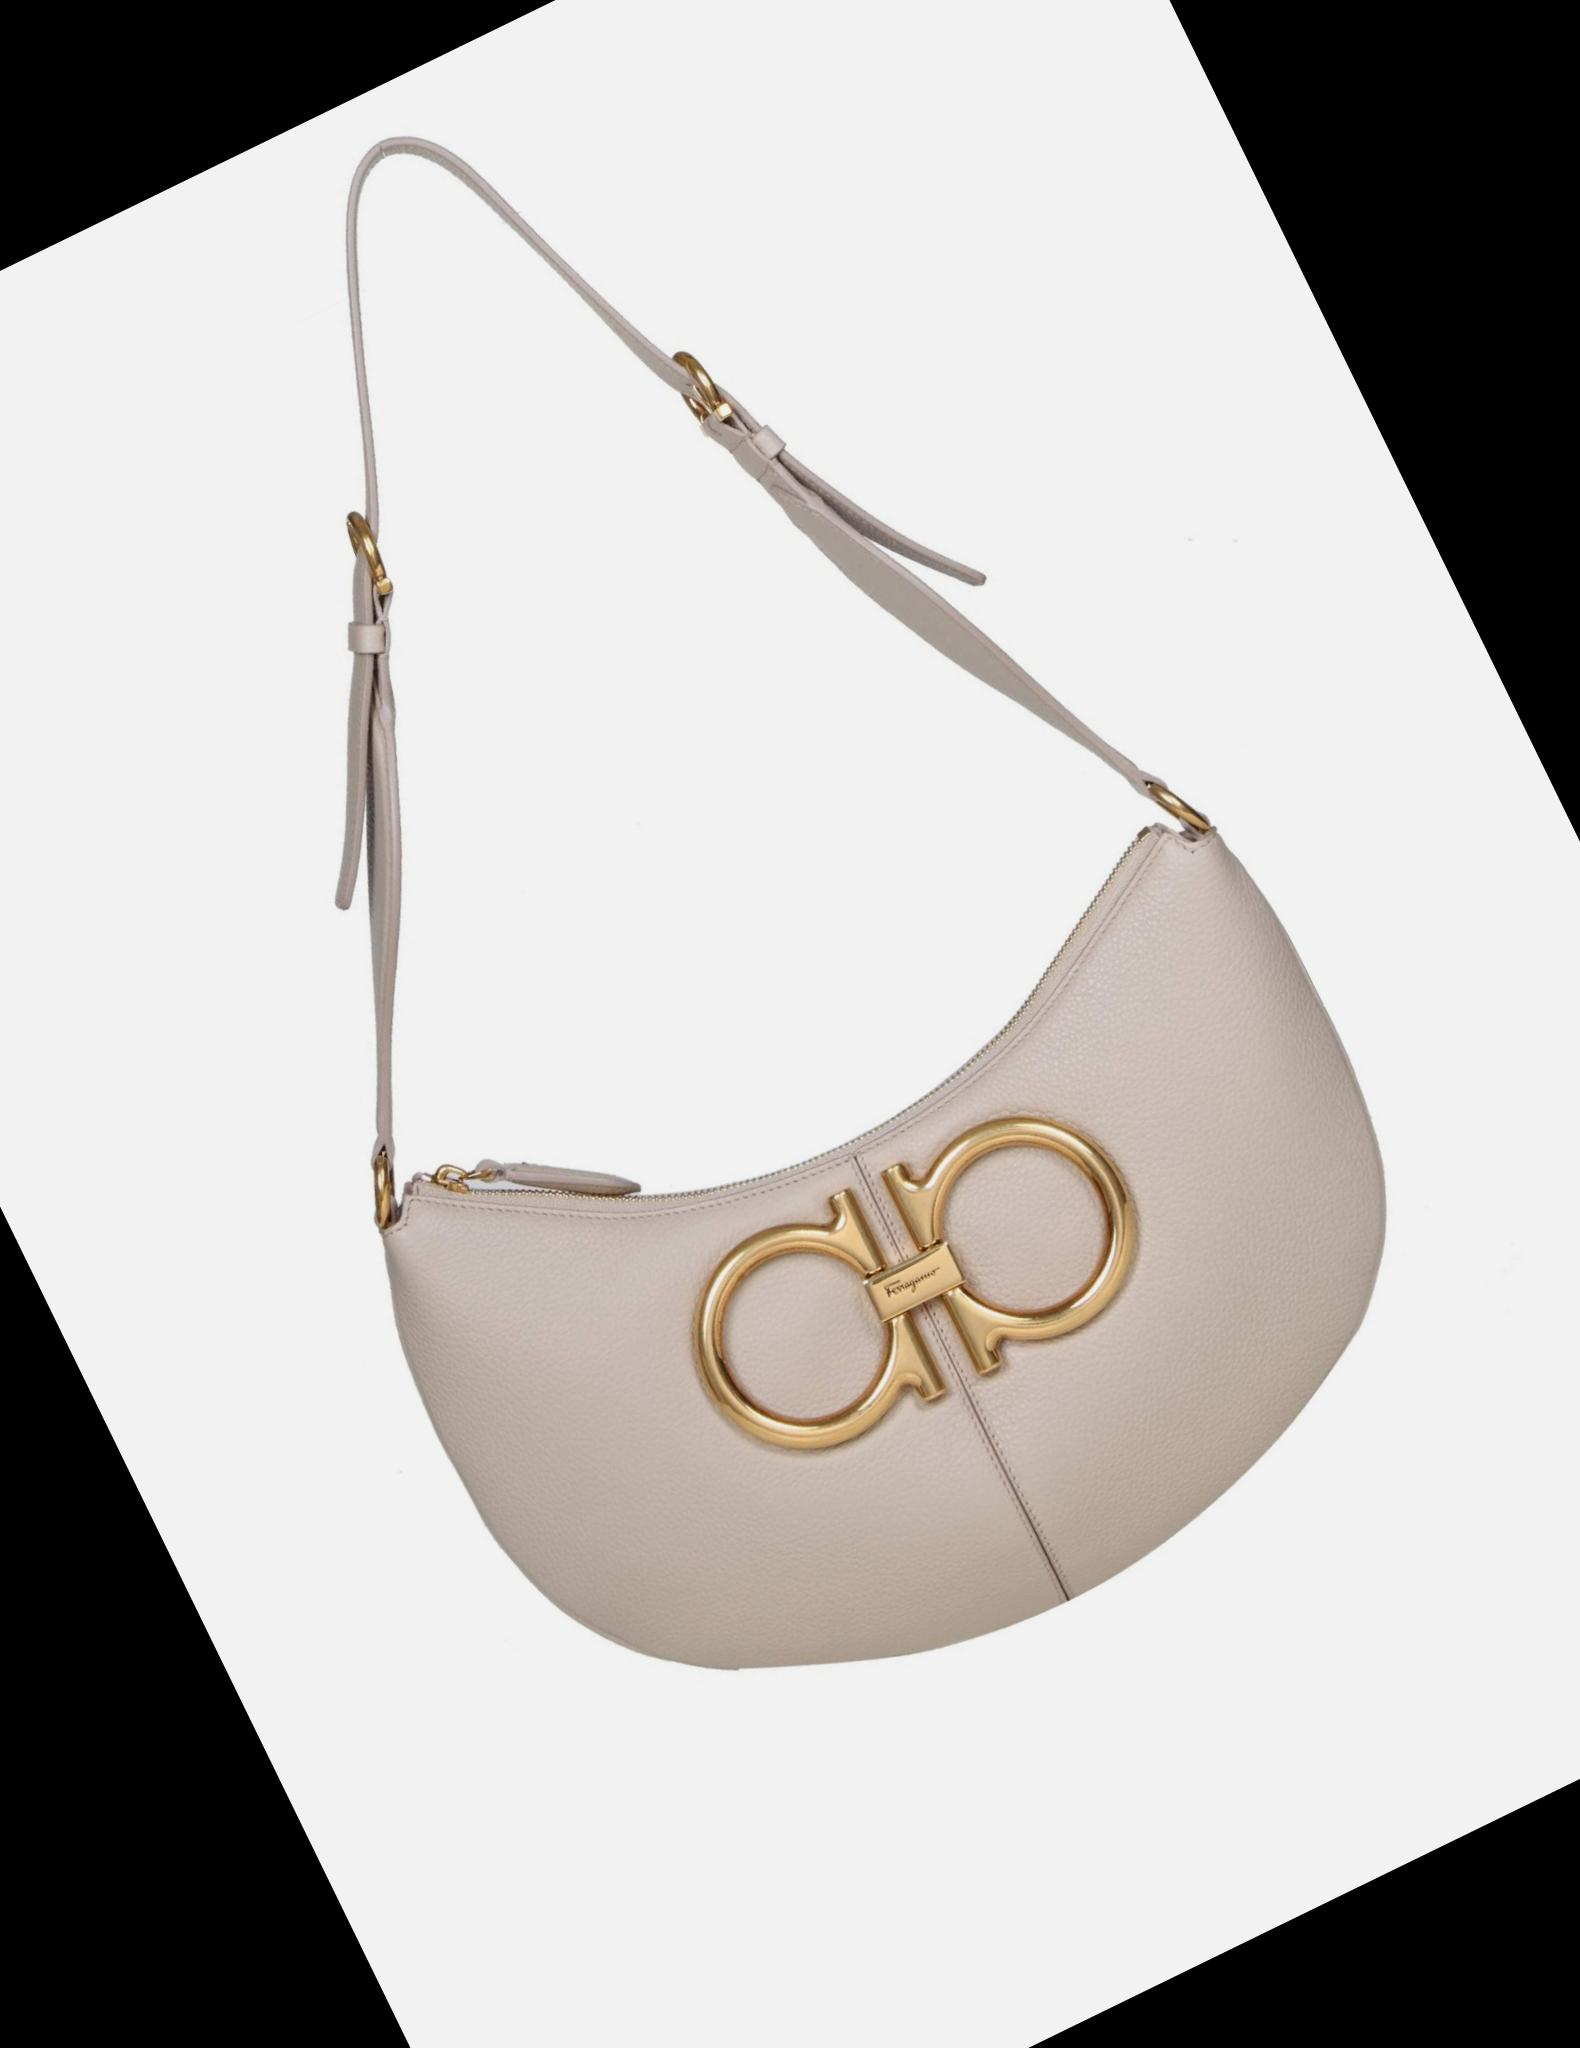FERRAGAMO: (612, 1016, 1225, 1522)
